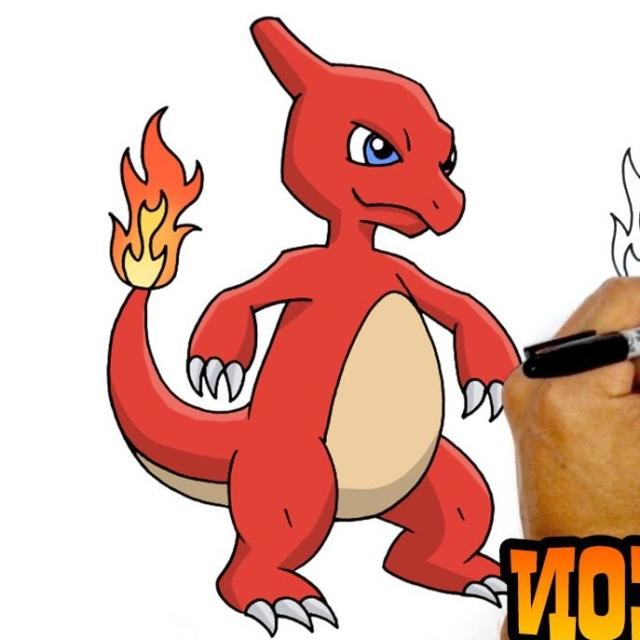Charmeleon: (176, 20, 509, 630)
